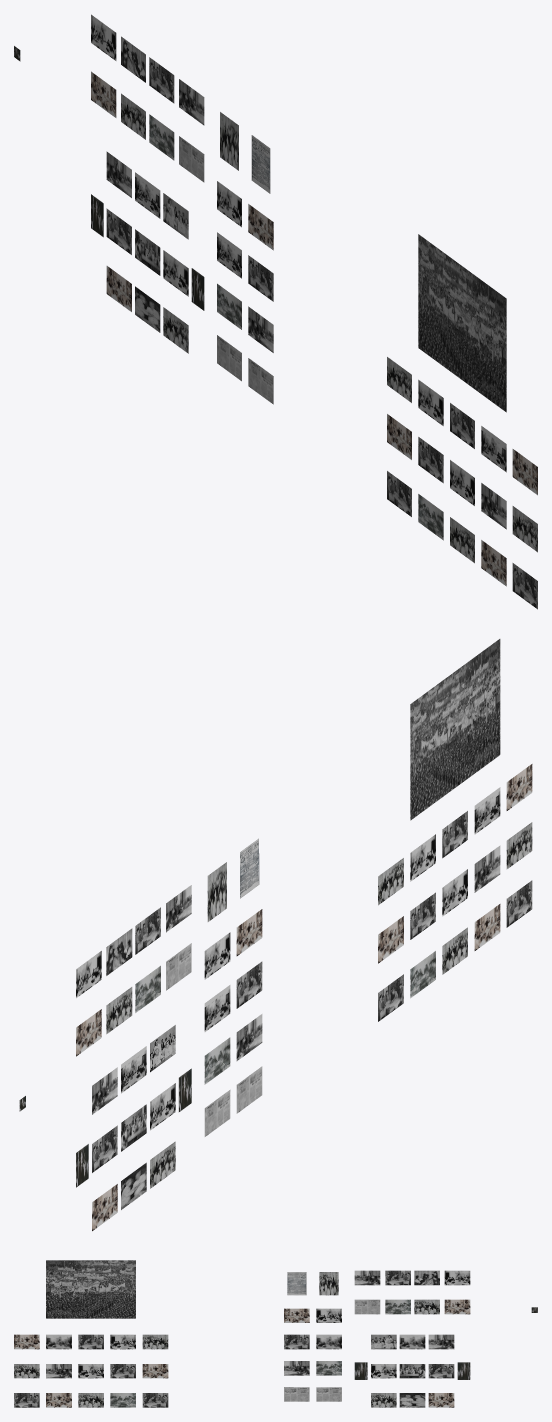
The model's file is PhongThuTu_AB.glb.
The picture shows the model from 3 angles, top to bottom: view 1: azimuth 30°, elevation 25°; view 2: azimuth 150°, elevation 25°; view 3: azimuth 270°, elevation 25°; orthographic projection. The views are drawn at different scales.
Visible parts, largest first — view 1: Plane.037, Plane.004, Plane.019, Plane.027, Plane.045, Plane.026, Plane.025, Plane.028, Plane.035, Plane.038, Plane.040, Plane.043 (+31 smaller); view 2: Plane.037, Plane.019, Plane.004, Plane.024, Plane.022, Plane.009, Plane.001, Plane.007, Plane.047, Plane.036, Plane.026, Plane.023 (+31 smaller); view 3: Plane.037, Plane.019, Plane.004, Plane.003, Plane.035, Plane.027, Plane.041, Plane.044, Plane.045, Plane.048, Plane.026, Plane.023 (+33 smaller).
Part boxes in pixels (x1,y1,x2,y2): Plane.037: [418, 234, 506, 412]; Plane.004: [251, 135, 270, 193]; Plane.019: [220, 112, 238, 170]; Plane.027: [179, 79, 204, 125]; Plane.045: [179, 136, 204, 182]; Plane.026: [248, 255, 273, 301]; Plane.025: [163, 307, 188, 353]; Plane.028: [163, 193, 188, 239]; Plane.035: [106, 151, 131, 197]; Plane.038: [163, 250, 188, 296]; Plane.040: [106, 208, 131, 254]; Plane.043: [149, 57, 174, 103]; Plane.037: [410, 639, 500, 820]; Plane.019: [207, 862, 226, 921]; Plane.004: [240, 838, 259, 898]; Plane.024: [236, 909, 262, 956]; Plane.022: [204, 1037, 230, 1084]; Plane.009: [506, 880, 532, 927]; Plane.001: [474, 845, 500, 892]; Plane.007: [474, 787, 500, 834]; Plane.047: [106, 987, 132, 1034]; Plane.036: [474, 904, 500, 950]; Plane.026: [236, 961, 262, 1008]; Plane.023: [204, 985, 230, 1031]; Plane.037: [46, 1260, 135, 1318]; Plane.019: [319, 1272, 338, 1295]; Plane.004: [287, 1272, 306, 1295]; Plane.003: [142, 1334, 168, 1349]; Plane.035: [428, 1334, 454, 1349]; Plane.027: [354, 1270, 380, 1285]; Plane.041: [399, 1334, 425, 1349]; Plane.044: [444, 1270, 470, 1285]; Plane.045: [354, 1299, 380, 1314]; Plane.048: [444, 1299, 470, 1314]; Plane.026: [284, 1334, 309, 1349]; Plane.023: [316, 1334, 341, 1349].
Size of the model in its own units: 0.1003 by 2.52 by 8.15.
46 materials, 46 textured.
